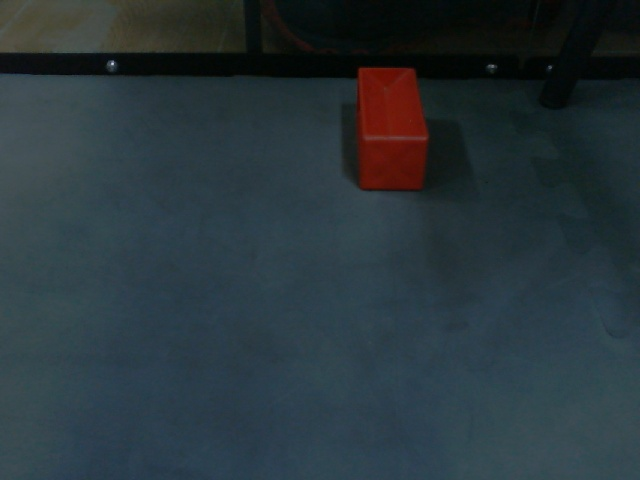RedSample: (352, 63, 430, 193)
